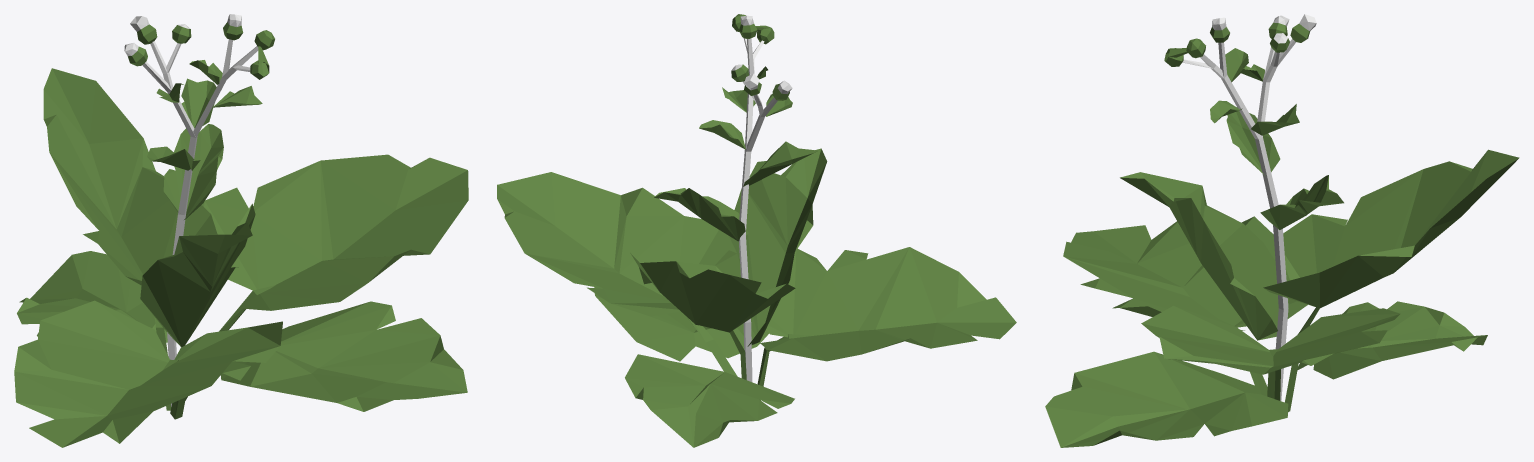
The model's file is SM_Burdock_Mature_Flowering_A.fbx.
3 views of the same model, side by side, from view 1: azimuth 30°, elevation 25°; view 2: azimuth 150°, elevation 25°; view 3: azimuth 270°, elevation 25° (orthographic). The views are drawn at different scales.
Visible parts, largest first — view 1: burdock-mature-flowering-a; view 2: burdock-mature-flowering-a; view 3: burdock-mature-flowering-a.
Part boxes in pixels (x1,y1,x2,y2): burdock-mature-flowering-a: (14,14,468,447); burdock-mature-flowering-a: (497,14,1016,447); burdock-mature-flowering-a: (1045,14,1519,447).
Bounding box in the file's own units: 2.12 × 1.68 × 1.75.
